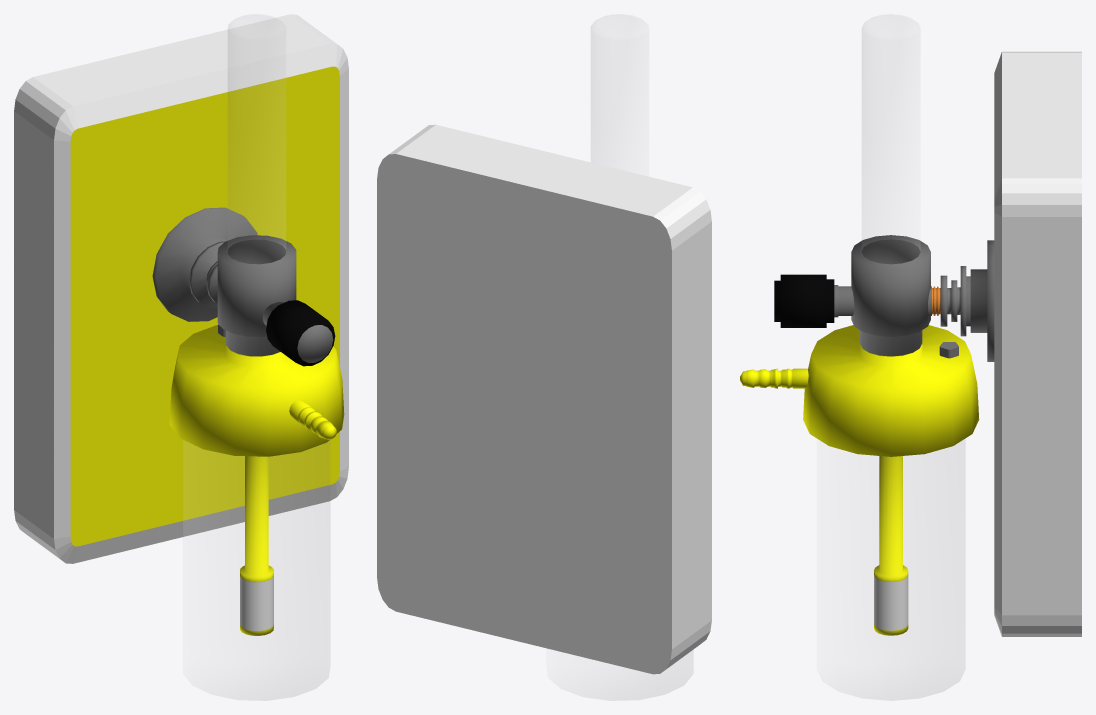
The picture shows the model from 3 angles, left to right: view 1: azimuth 30°, elevation 25°; view 2: azimuth 150°, elevation 25°; view 3: azimuth 270°, elevation 25°; orthographic projection.
Parts seen in each view (by area): view 1: AC; view 2: AC; view 3: AC.
Boxes of the visible parts, left/top/right/bottom form: AC: left=14, top=14, right=348, bottom=700; AC: left=377, top=14, right=711, bottom=700; AC: left=740, top=14, right=1081, bottom=700.
Size of the model in its own units: 200 by 419 by 201.
